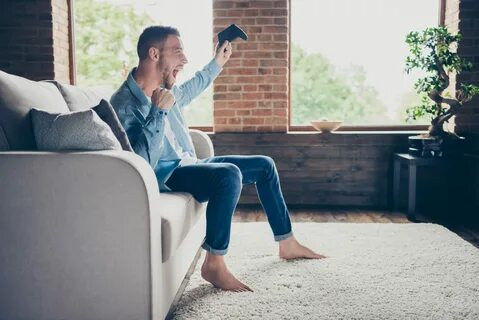awake: (108, 24, 328, 293)
